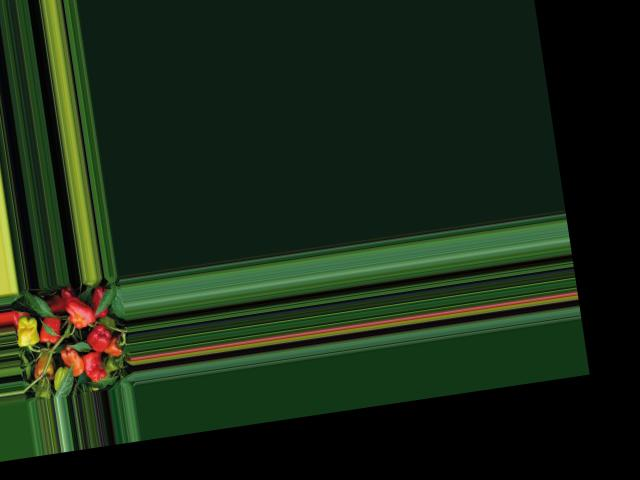bell_pepper: (104, 340, 125, 357)
